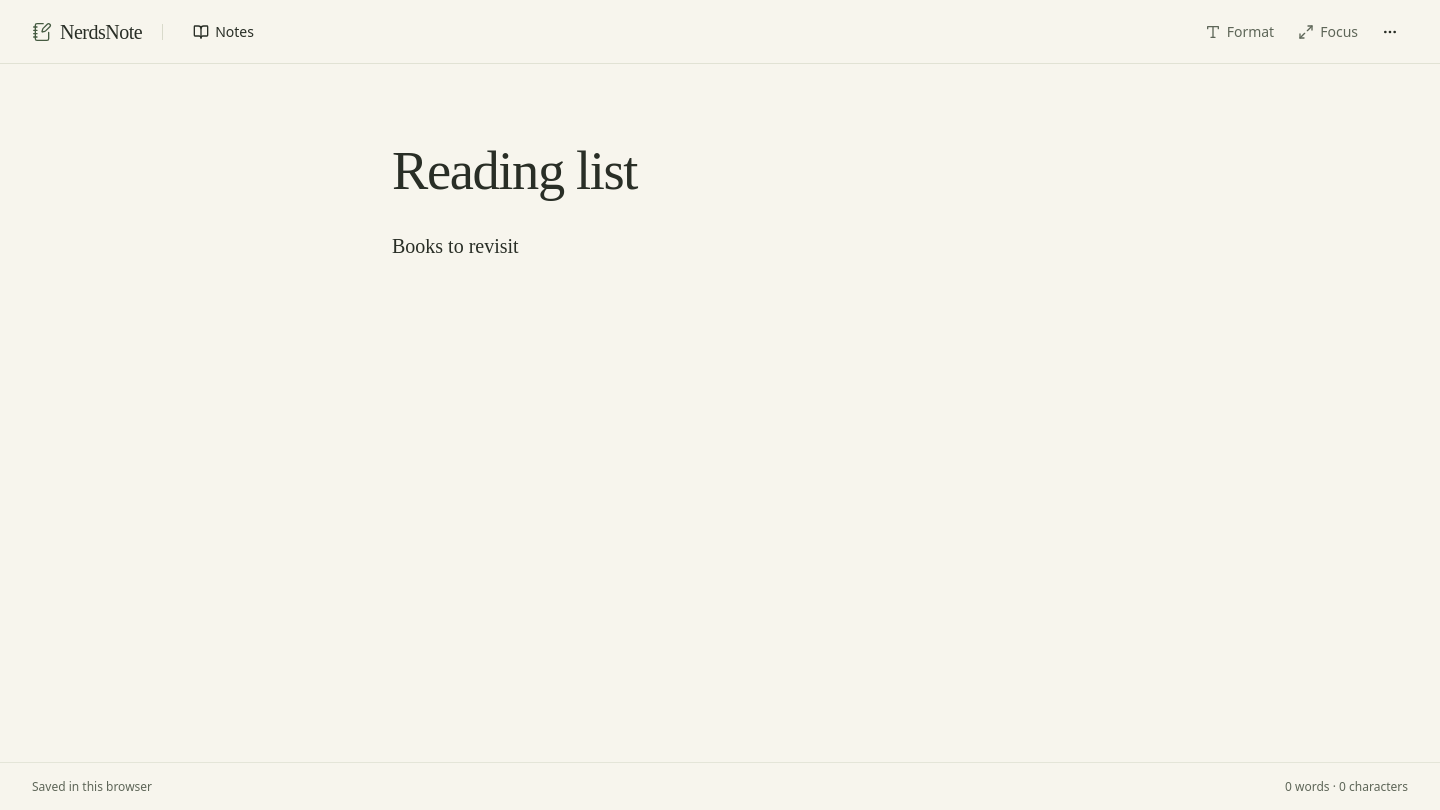
Test: notebook persistence › keeps saved notes when the editor initializes
Expected: the field showing "Reading list" is shown, top-left (392, 137), bottom-right (1048, 205)
Click the button "Notes": coordinates (224, 32) top-left (183, 16), bottom-right (264, 48)
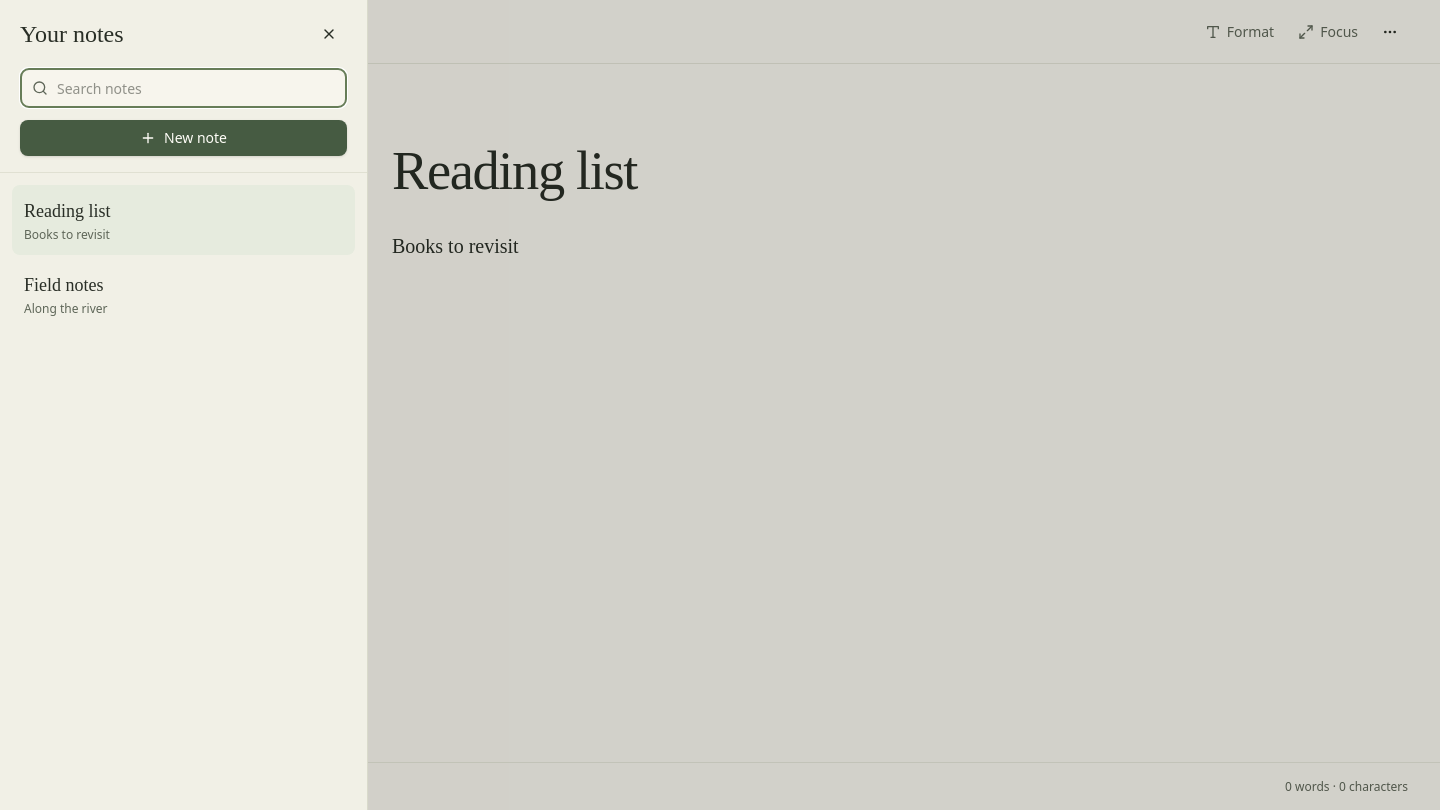
Click the button "Field notes Along the river": coordinates (64, 285) top-left (12, 259), bottom-right (315, 329)
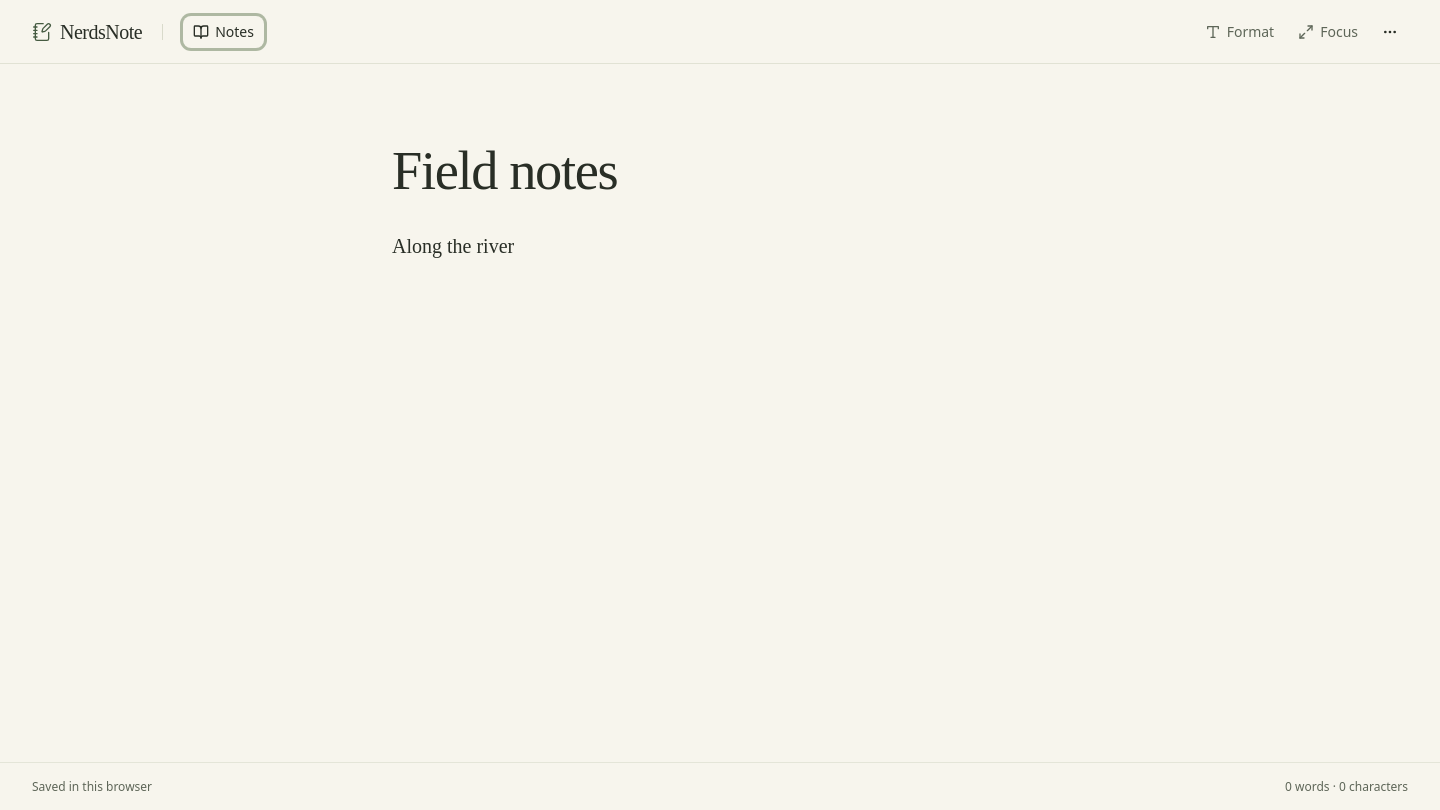
Expected: the field showing "Field notes" is shown, top-left (392, 137), bottom-right (1048, 205)
Expected: the field named "Note body" reads "Along the river", top-left (392, 235), bottom-right (514, 257)
